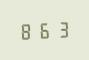eight: (18, 21, 34, 40)
six: (36, 20, 52, 39)
three: (53, 19, 69, 38)
